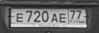license-plateSW: (10, 8, 87, 25)
